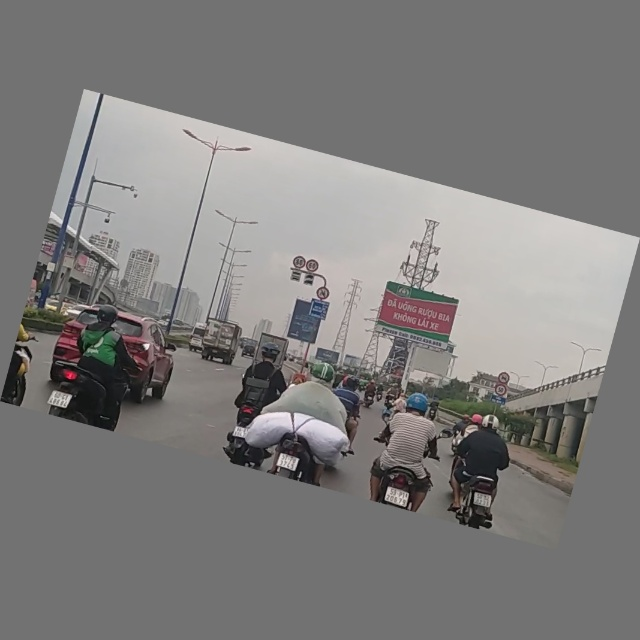P.103a: (497, 372, 512, 386)
P.104: (313, 286, 332, 302)
P.127*50: (494, 385, 509, 398)
P.127*60: (304, 258, 320, 274)
P.127*80: (292, 255, 307, 270)
